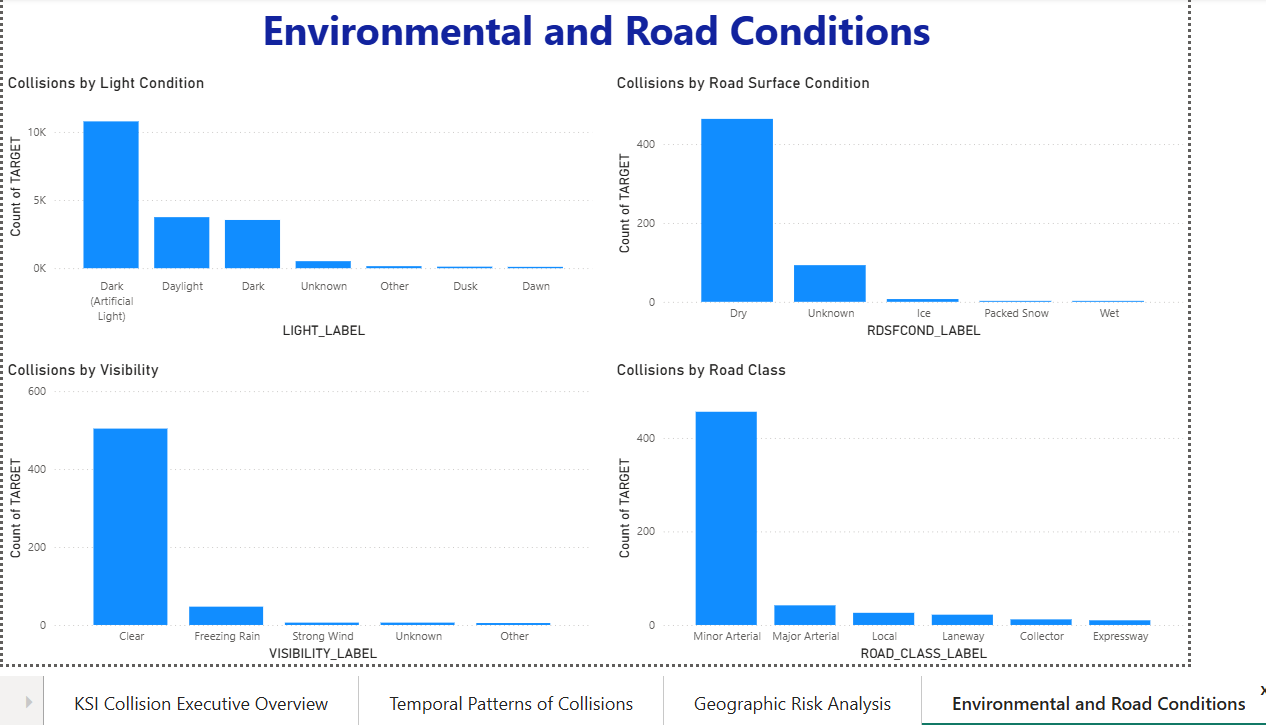

What the dashboard file says about the page in this screenshot:
{"tool":"powerbi","page":{"name":"Environmental and Road Conditions","canvas":[1280,720],"ordinal":3},"visuals":[{"type":"textbox","box":[265.6,0,749.7,82.6],"z":0},{"type":"columnChart","title":"Collisions by Light Condition","fields":{"Y":["CountNonNull(KSI_PowerBI_Clean.TARGET)"],"Category":["KSI_PowerBI_Clean.LIGHT_LABEL"]},"box":[0,82.6,641.2,289.8],"z":1000},{"type":"columnChart","title":"Collisions by Road Surface Condition","fields":{"Y":["CountNonNull(KSI_PowerBI_Clean.TARGET)"],"Category":["KSI_PowerBI_Clean.RDSFCOND_LABEL"]},"box":[657.6,83.2,621.7,289.1],"z":2000},{"type":"columnChart","title":"Collisions by Visibility","fields":{"Y":["CountNonNull(KSI_PowerBI_Clean.TARGET)"],"Category":["KSI_PowerBI_Clean.VISIBILITY_LABEL"]},"box":[0,391.9,639.6,328.7],"z":3000},{"type":"columnChart","title":"Collisions by Road Class","fields":{"Y":["CountNonNull(KSI_PowerBI_Clean.TARGET)"],"Category":["KSI_PowerBI_Clean.ROAD_CLASS_LABEL"]},"box":[657.4,391.9,621.8,328.7],"z":4000}]}

Visuals, with their boxes on the page's 1280x720 design canvas (x1, y1, x2, y2). These are canvas units, not pixel positions in the 1266x725 screenshot, which may show the page scaled, cropped or inside an application window:
textbox: [266,0,1015,83]
"Collisions by Light Condition" columnChart: [0,83,641,372]
"Collisions by Road Surface Condition" columnChart: [658,83,1279,372]
"Collisions by Visibility" columnChart: [0,392,640,721]
"Collisions by Road Class" columnChart: [657,392,1279,721]
